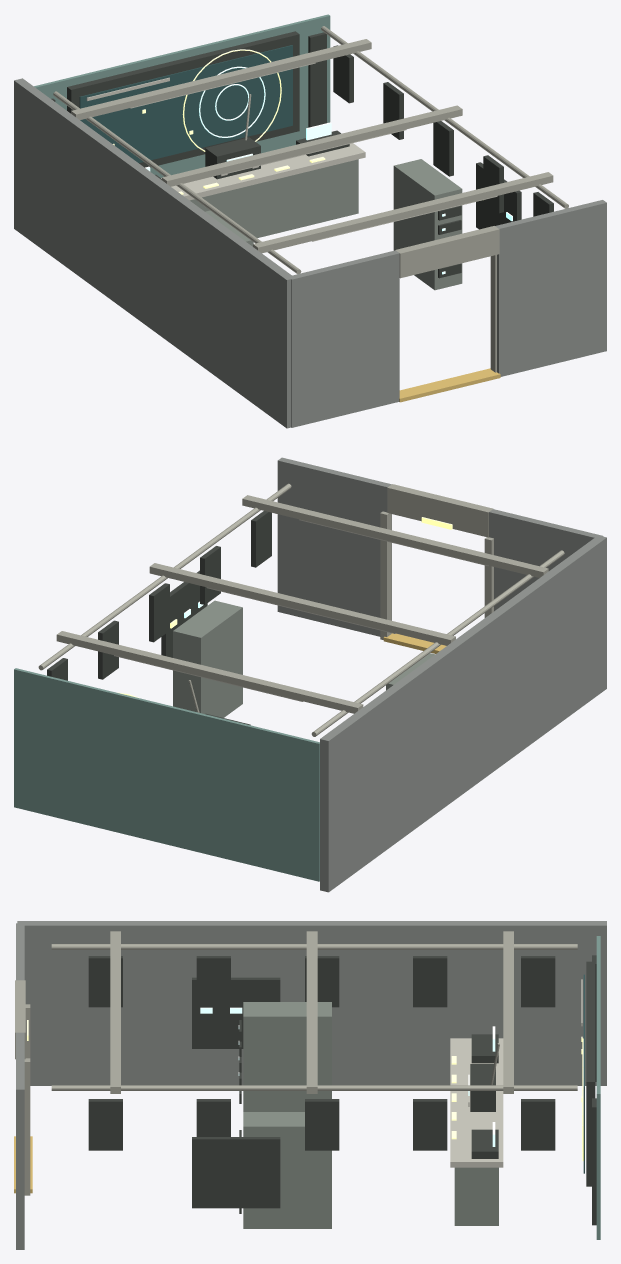
File: shelter_radio_room.glb
3 views of the same model, one above another, from view 1: azimuth 30°, elevation 25°; view 2: azimuth 150°, elevation 25°; view 3: azimuth 270°, elevation 25° (orthographic). The views are drawn at different scales.
Parts seen in each view (by area): view 1: WALL_radio_partition, WALL_radio_entry.001, WALL_radio_entry, signal atlas glass, WALL_operator desk, rear acoustic panel, signal atlas frame, equipment rack.001, ceiling beam, ceiling beam.001, ceiling beam.002, WALL_radio_lintel (+12 smaller); view 2: WALL_radio_partition, rear acoustic panel, WALL_radio_entry.001, equipment rack.001, WALL_radio_entry, ceiling beam, ceiling beam.002, ceiling beam.001, WALL_radio_lintel, overhead conduit.001, overhead conduit, wall planning console.001 (+6 smaller); view 3: WALL_radio_partition, equipment rack, equipment rack.001, wall planning console.001, operator worktop, wall planning console, overhead conduit, overhead conduit.001, WALL_operator desk, WALL_radio_entry.001, ceiling beam.001, signal atlas frame (+20 smaller).
Boxes of the visible parts, left/top/right/bottom form: WALL_radio_partition: left=14, top=78, right=294, bottom=428; WALL_radio_entry.001: left=495, top=200, right=606, bottom=376; WALL_radio_entry: left=288, top=250, right=399, bottom=427; signal atlas glass: left=79, top=45, right=292, bottom=162; WALL_operator desk: left=190, top=159, right=358, bottom=237; rear acoustic panel: left=34, top=14, right=330, bottom=177; signal atlas frame: left=67, top=31, right=299, bottom=167; equipment rack.001: left=393, top=159, right=462, bottom=290; ceiling beam: left=71, top=39, right=371, bottom=119; ceiling beam.001: left=162, top=105, right=462, bottom=186; ceiling beam.002: left=253, top=172, right=553, bottom=253; WALL_radio_lintel: left=395, top=226, right=499, bottom=278; WALL_radio_partition: left=320, top=536, right=606, bottom=892; rear acoustic panel: left=14, top=668, right=319, bottom=881; WALL_radio_entry.001: left=277, top=457, right=391, bottom=636; equipment rack.001: left=173, top=600, right=242, bottom=717; WALL_radio_entry: left=489, top=509, right=603, bottom=611; ceiling beam: left=56, top=631, right=363, bottom=713; ceiling beam.002: left=242, top=495, right=548, bottom=577; ceiling beam.001: left=149, top=563, right=455, bottom=645; WALL_radio_lintel: left=387, top=484, right=493, bottom=537; overhead conduit.001: left=38, top=483, right=291, bottom=670; overhead conduit: left=311, top=550, right=564, bottom=736; wall planning console.001: left=161, top=570, right=207, bottom=657; WALL_radio_partition: left=17, top=921, right=606, bottom=1085; equipment rack: left=243, top=1002, right=331, bottom=1111; equipment rack.001: left=243, top=1112, right=331, bottom=1228; wall planning console.001: left=192, top=1137, right=280, bottom=1208; operator worktop: left=450, top=1038, right=503, bottom=1167; wall planning console: left=192, top=977, right=280, bottom=1048; overhead conduit: left=51, top=944, right=577, bottom=949; overhead conduit.001: left=51, top=1085, right=577, bottom=1090; WALL_operator desk: left=454, top=1167, right=498, bottom=1225; WALL_radio_entry.001: left=16, top=1032, right=24, bottom=1249; ceiling beam.001: left=306, top=931, right=317, bottom=1093; signal atlas frame: left=586, top=961, right=595, bottom=1186.
Bounding box in the file's own units: 8.11 × 3.6 × 12.07.
